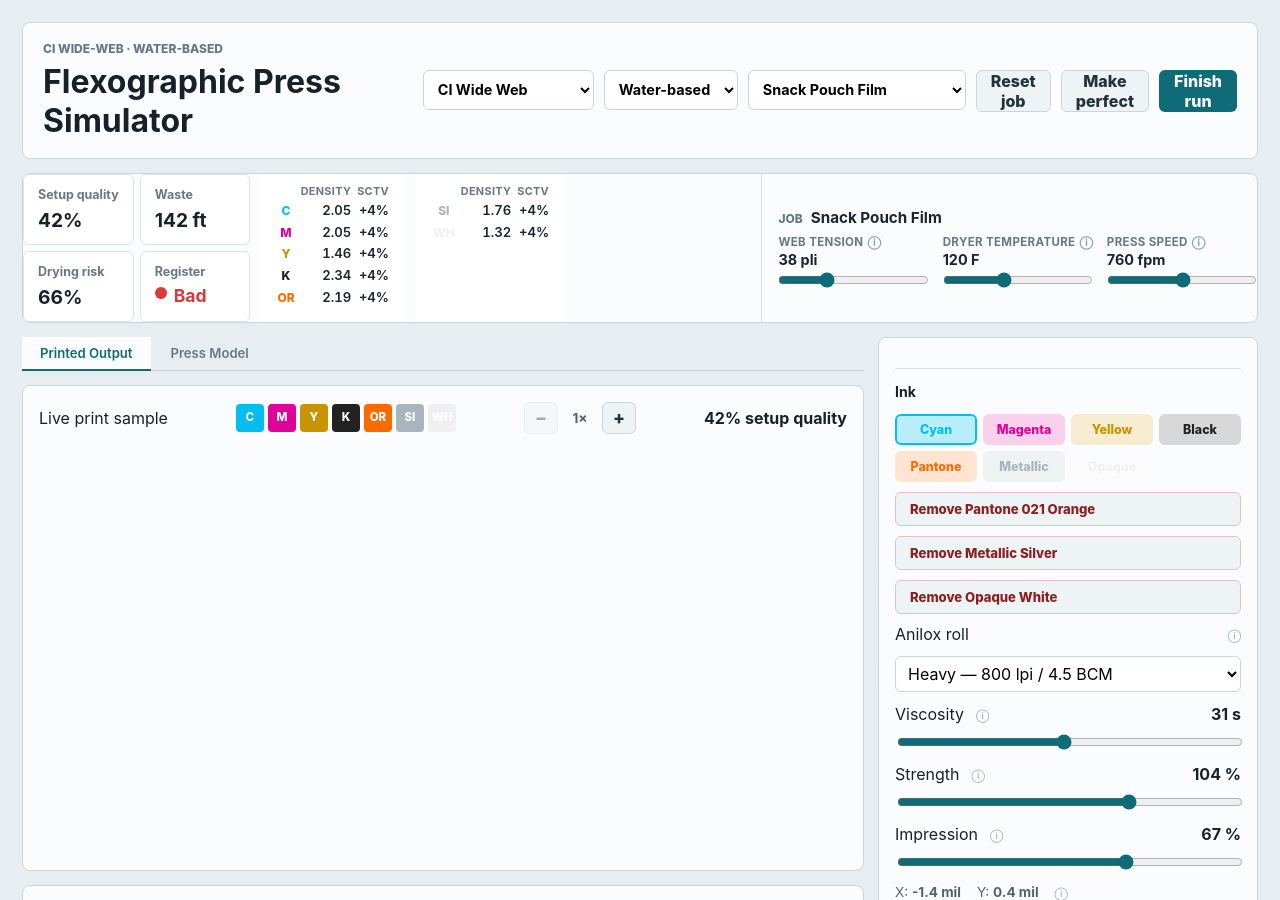
Scenario: App › switching jobs resets settings
Select "Pressure-Sensitive Label" in the dropdown named "select job": (857, 90) [748,70,966,110]
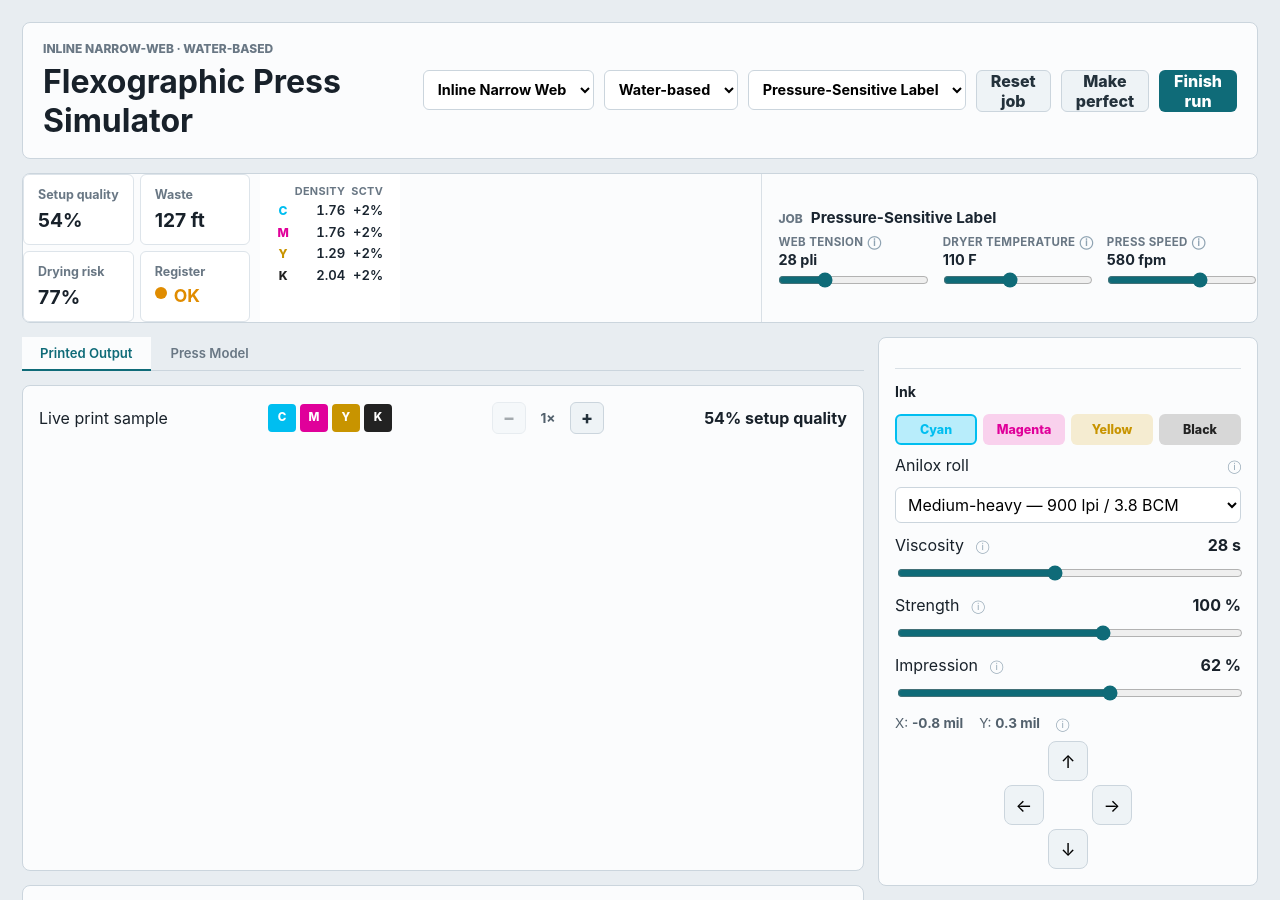
Expected: the slider labelled "Press speed" holds "580", [1107,272,1257,288]
